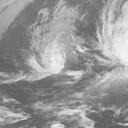cyclone: (26, 37, 67, 76)
